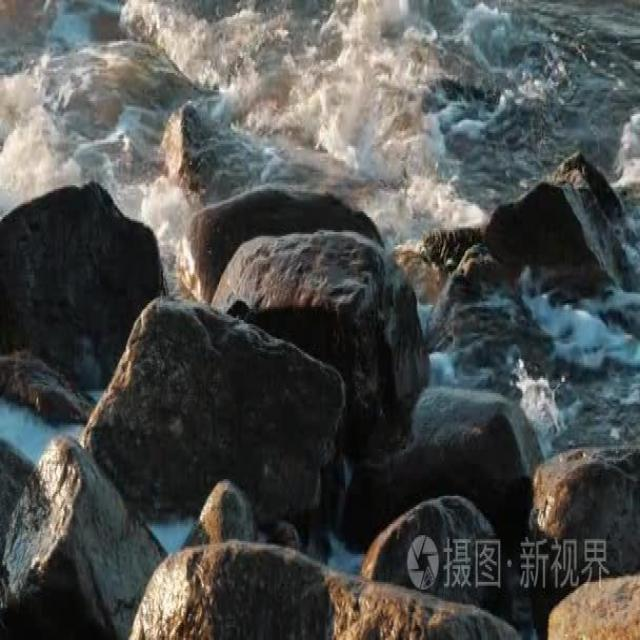reef: (149, 68, 575, 473)
